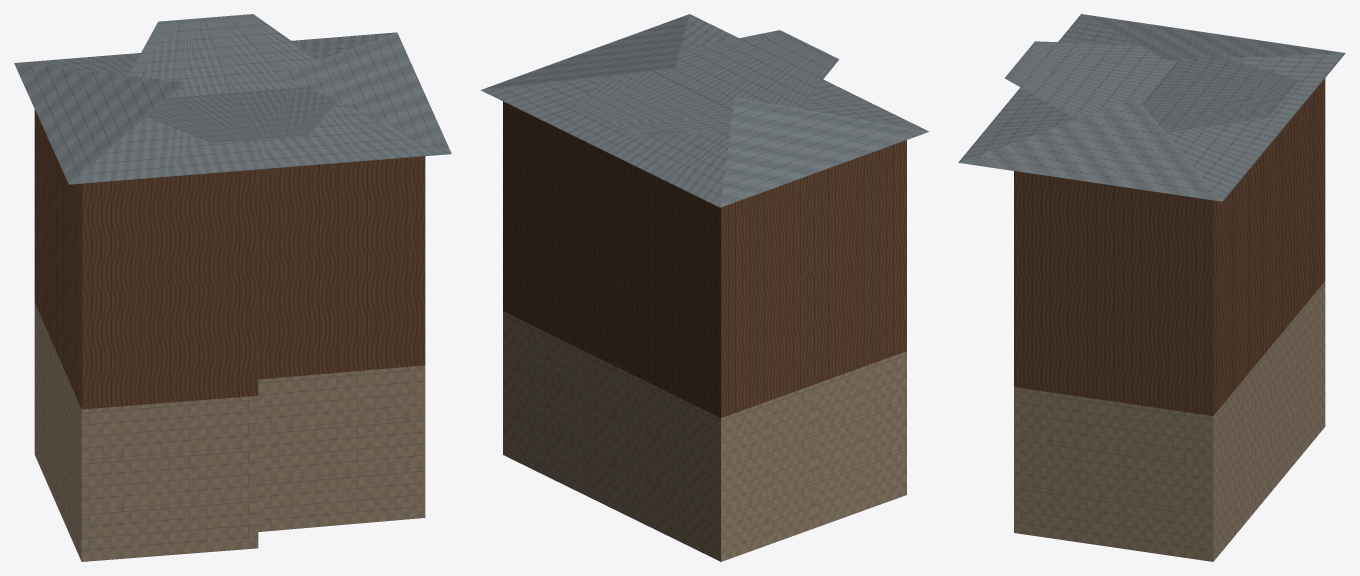
Rendered from bld_c2_18_465.gltf.
The picture shows the model from 3 angles, left to right: view 1: azimuth 30°, elevation 25°; view 2: azimuth 150°, elevation 25°; view 3: azimuth 270°, elevation 25°; orthographic projection. The views are drawn at different scales.
Visible parts, largest first — view 1: bld_c2_18_465; view 2: bld_c2_18_465; view 3: bld_c2_18_465.
Part boxes in pixels (box(x1,y1,x2,y2)): bld_c2_18_465: box(14, 14, 451, 561); bld_c2_18_465: box(480, 14, 928, 561); bld_c2_18_465: box(958, 14, 1345, 561).
Bounding box in the file's own units: 14.09 × 13.9 × 12.28.
3 materials, 3 textured.
